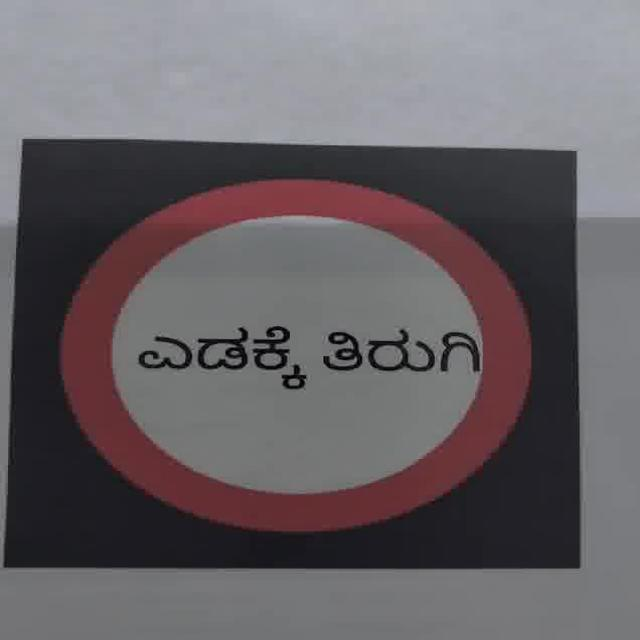kannadleft: (113, 298, 493, 406), (139, 315, 320, 393)
